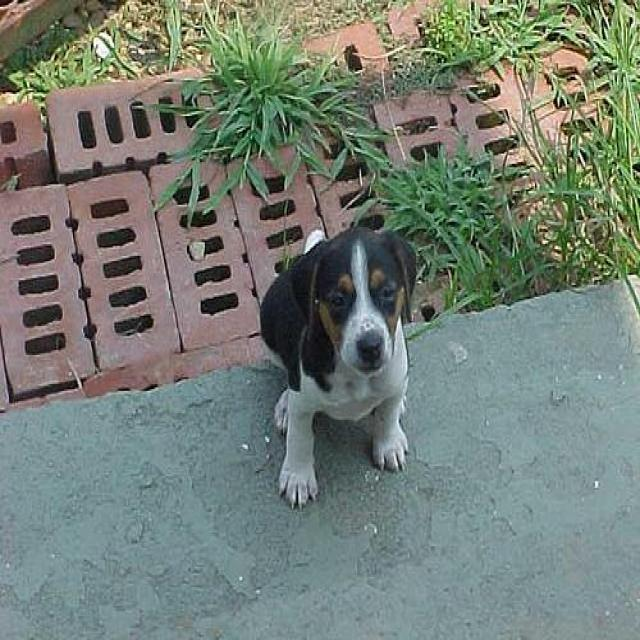beagle: (251, 225, 418, 510)
